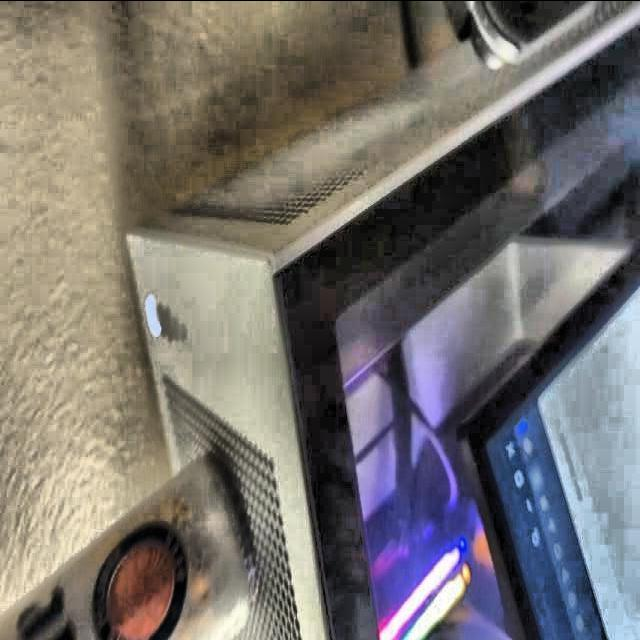Aluminum Can: (0, 442, 259, 640)
